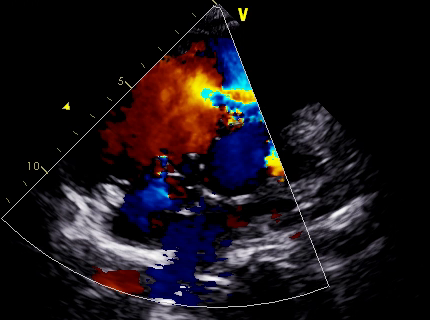TR: (137, 126, 205, 211)
